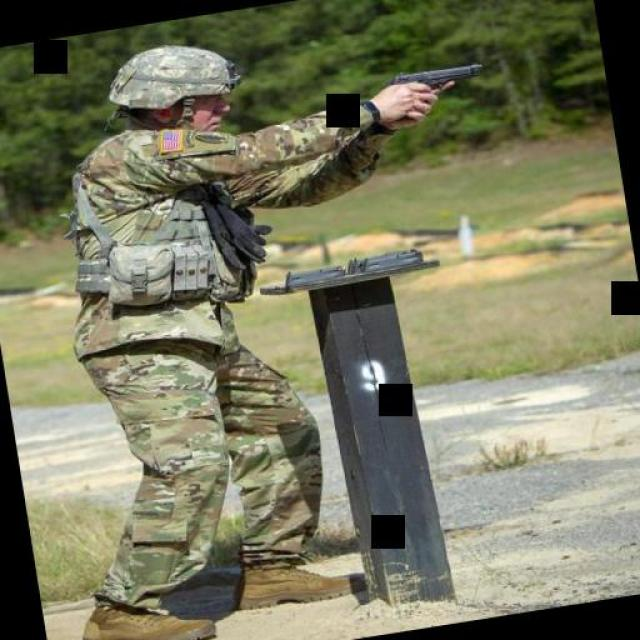gun: (377, 51, 492, 100)
